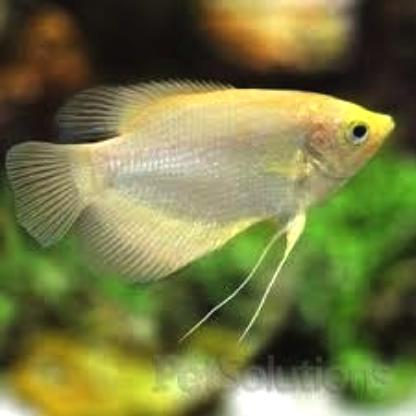gurame: (11, 82, 395, 276)
